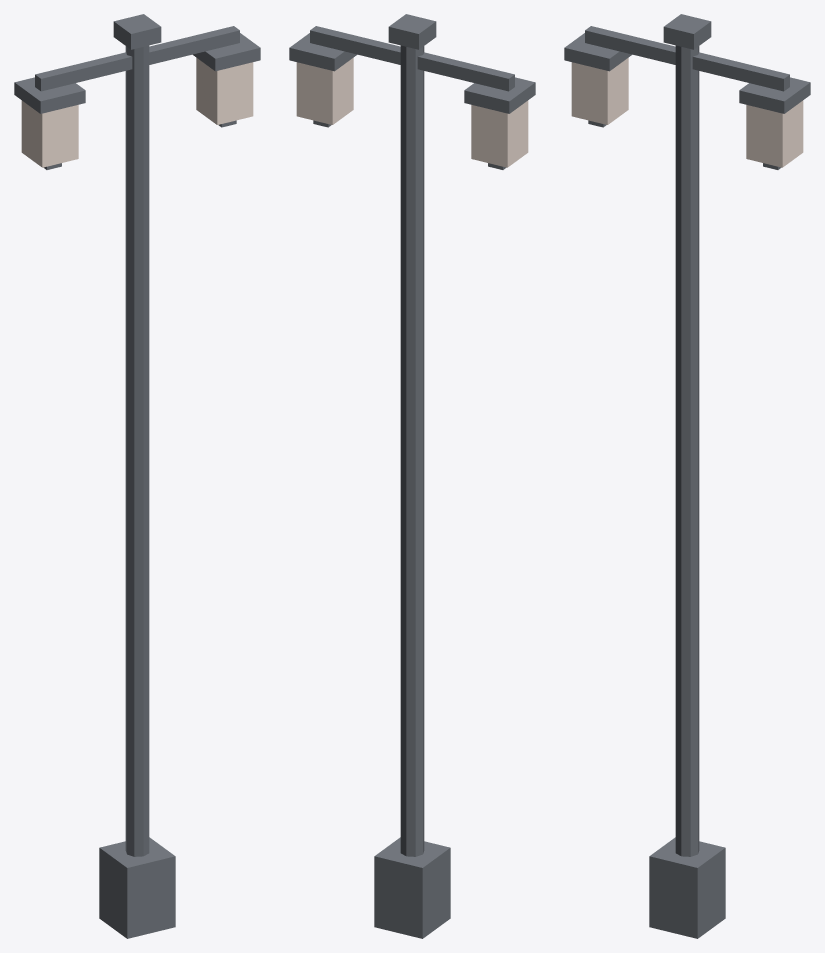
File: site_light.fbx
3 views of the same model, side by side, from view 1: azimuth 30°, elevation 25°; view 2: azimuth 150°, elevation 25°; view 3: azimuth 330°, elevation 25° (orthographic).
Parts seen in each view (by area): view 1: a3002/0/site_light; view 2: a3002/0/site_light; view 3: a3002/0/site_light.
Part boxes in pixels (left/top/right/bottom): a3002/0/site_light: left=14, top=14, right=260, bottom=938; a3002/0/site_light: left=289, top=14, right=535, bottom=938; a3002/0/site_light: left=564, top=14, right=810, bottom=938.
Size of the model in its own units: 1.46 by 5.7 by 0.32.
